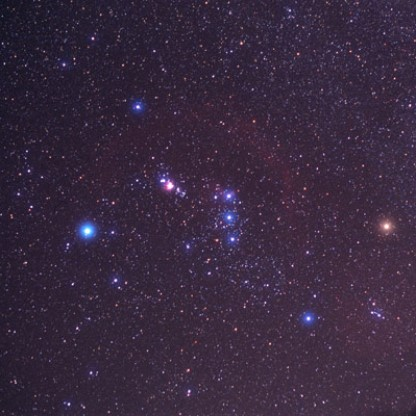Orion: (73, 215, 103, 247), (374, 209, 399, 239), (125, 92, 150, 120), (298, 307, 322, 331), (222, 229, 243, 249), (220, 205, 237, 224), (223, 180, 236, 203)
